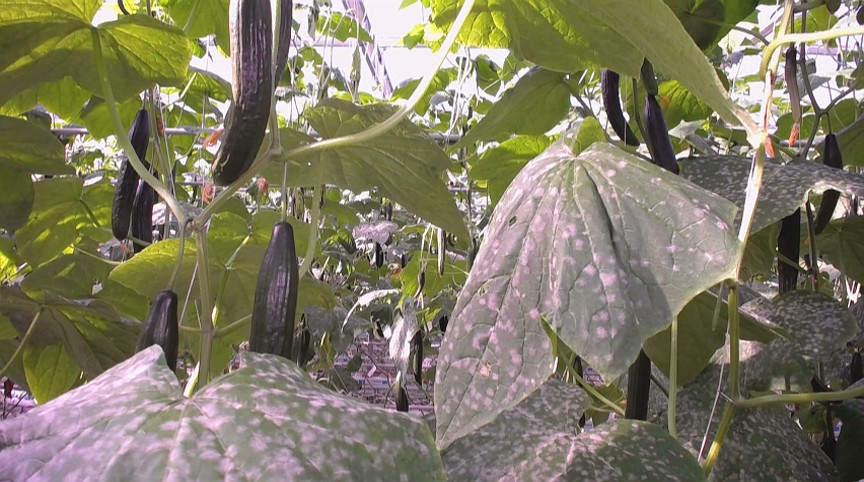cucumber: (213, 1, 270, 186), (248, 222, 300, 355), (111, 108, 149, 241), (136, 292, 179, 371), (600, 68, 641, 146), (812, 135, 843, 235), (643, 97, 681, 175)
